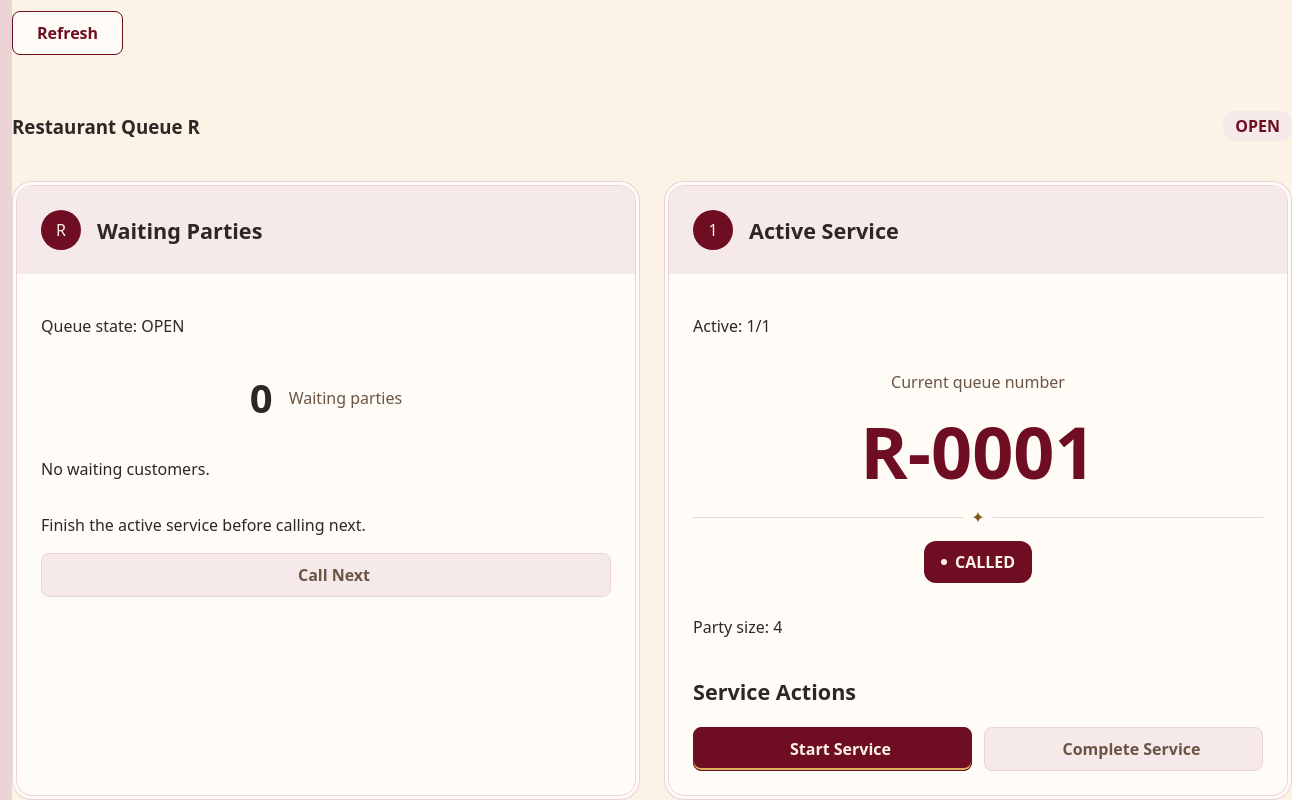
Test: L7-019 stale operator start refreshes after another operator has already started
This screenshot has width=1292, height=800.
(page scrolled)
Click the button "Start Service" at (832,749), box top-left (693, 727), bottom-right (972, 771)
(page scrolled)
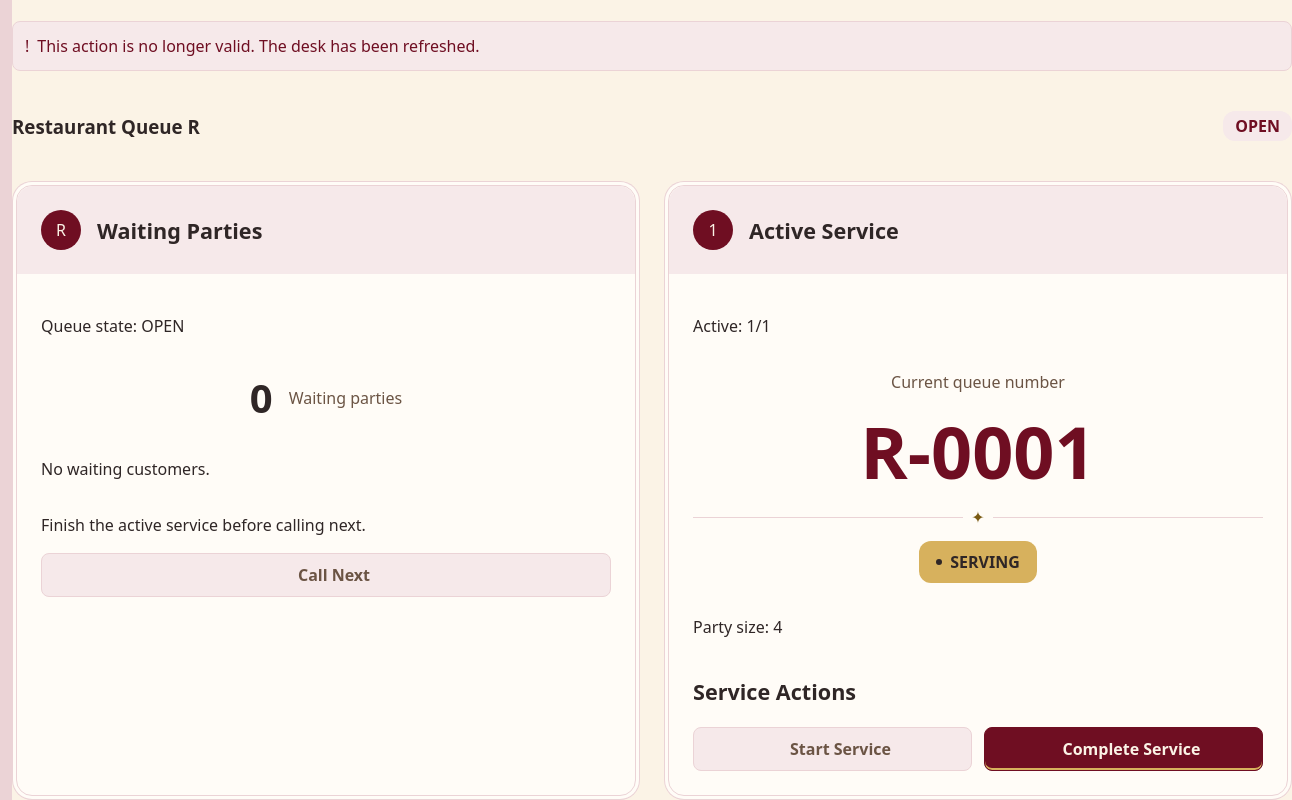
expect the text "This action is no longer valid. The desk has been refreshed." is shown: met, box top-left (37, 35), bottom-right (480, 57)
expect the text "SERVING" is shown: met, box top-left (919, 541), bottom-right (1037, 583)
expect the button "Complete Service" is enabled: met, box top-left (984, 727), bottom-right (1263, 771)
